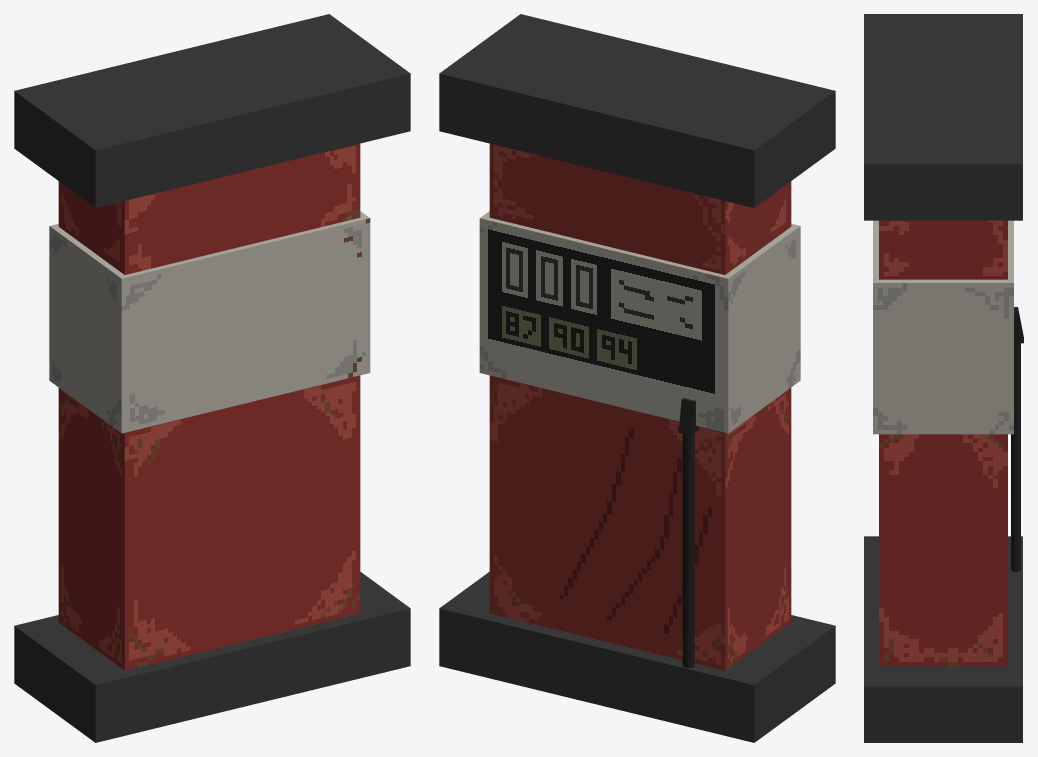
Rendered from gas_pump.gltf.
3 views of the same model, side by side, from view 1: azimuth 30°, elevation 25°; view 2: azimuth 150°, elevation 25°; view 3: azimuth 270°, elevation 25° (orthographic). The views are drawn at different scales.
Parts seen in each view (by area): view 1: cube (×5); view 2: cube (×5), cylinder; view 3: cube (×5), cylinder, mesh.
Part boxes in pixels (bbox=[...]): cube (×5): bbox=[14, 14, 410, 742]; cube (×5): bbox=[439, 14, 835, 742]; cylinder: bbox=[682, 433, 694, 667]; cube (×5): bbox=[864, 14, 1022, 742]; cylinder: bbox=[1011, 343, 1020, 571]; mesh: bbox=[1014, 307, 1023, 343].
Bounding box in the file's own units: 0.5625 × 1.01 × 0.2531.
Materials: 3 (3 with a texture image).
